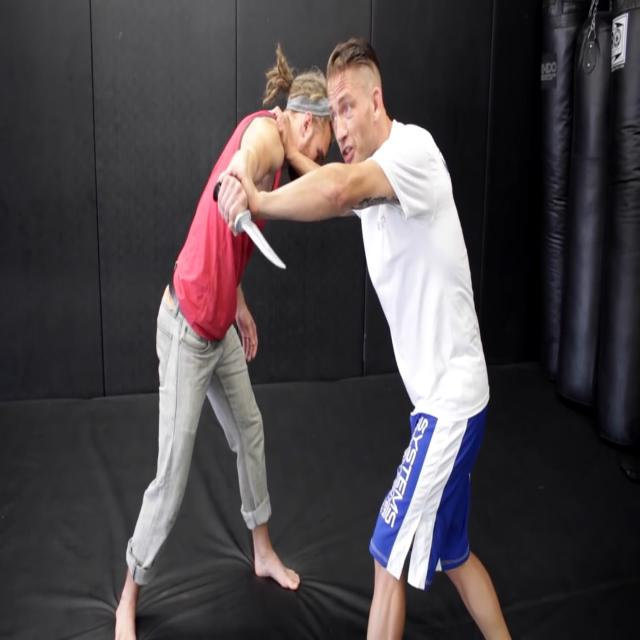knife: (237, 212, 291, 289)
